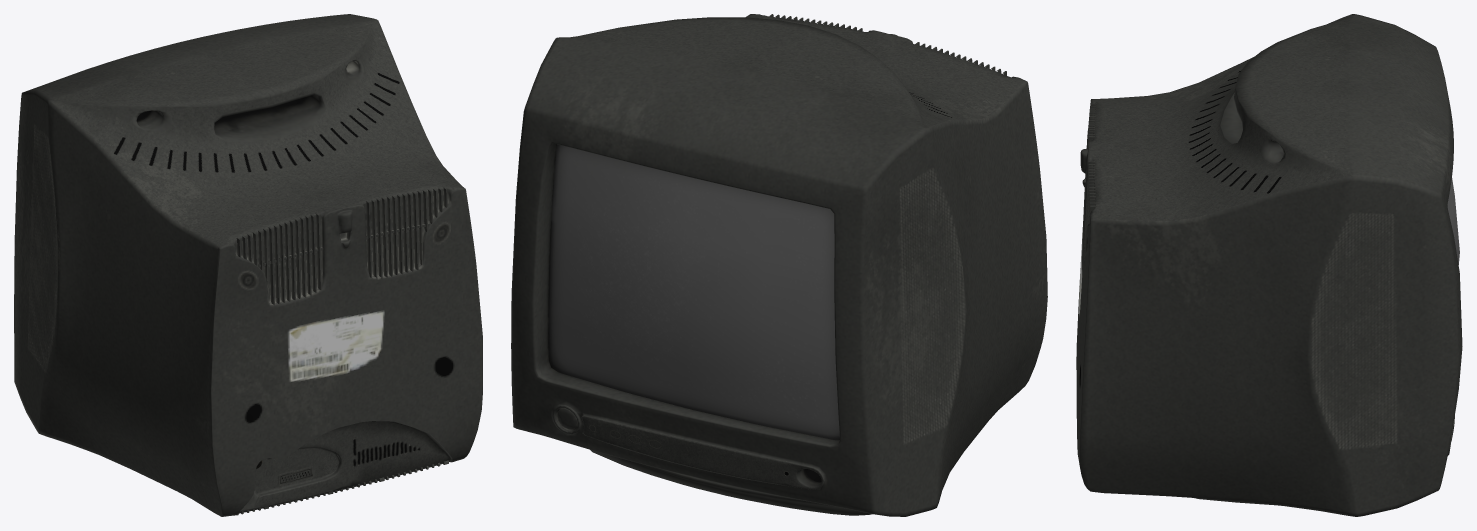
The model's file is crt-tv.glb.
The picture shows the model from 3 angles, left to right: view 1: azimuth 30°, elevation 25°; view 2: azimuth 150°, elevation 25°; view 3: azimuth 270°, elevation 25°; orthographic projection. The views are drawn at different scales.
Parts seen in each view (by area): view 1: LP__0; view 2: LP__0; view 3: LP__0.
Boxes of the visible parts, x1=… form: LP__0: x1=14, y1=14, x2=482, y2=516; LP__0: x1=511, y1=14, x2=1047, y2=516; LP__0: x1=1076, y1=14, x2=1462, y2=516.
Bounding box in the file's own units: 1.73 × 1.65 × 1.61.
Materials: 1 (1 with a texture image).
